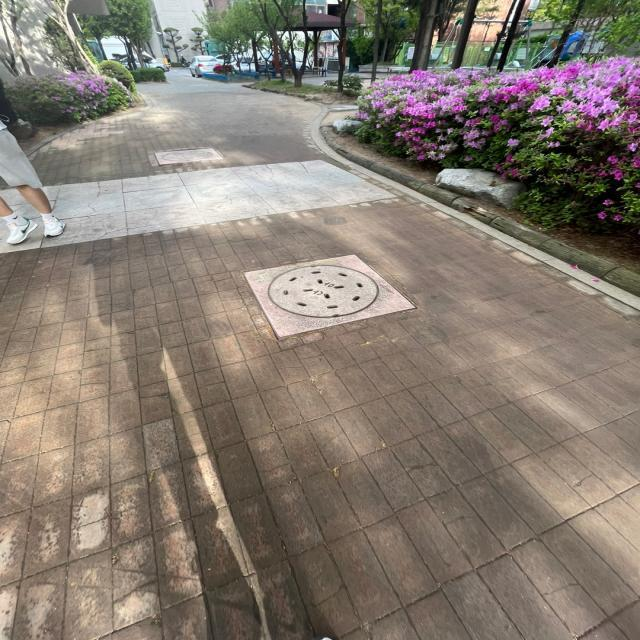manhole: (246, 255, 414, 338)
